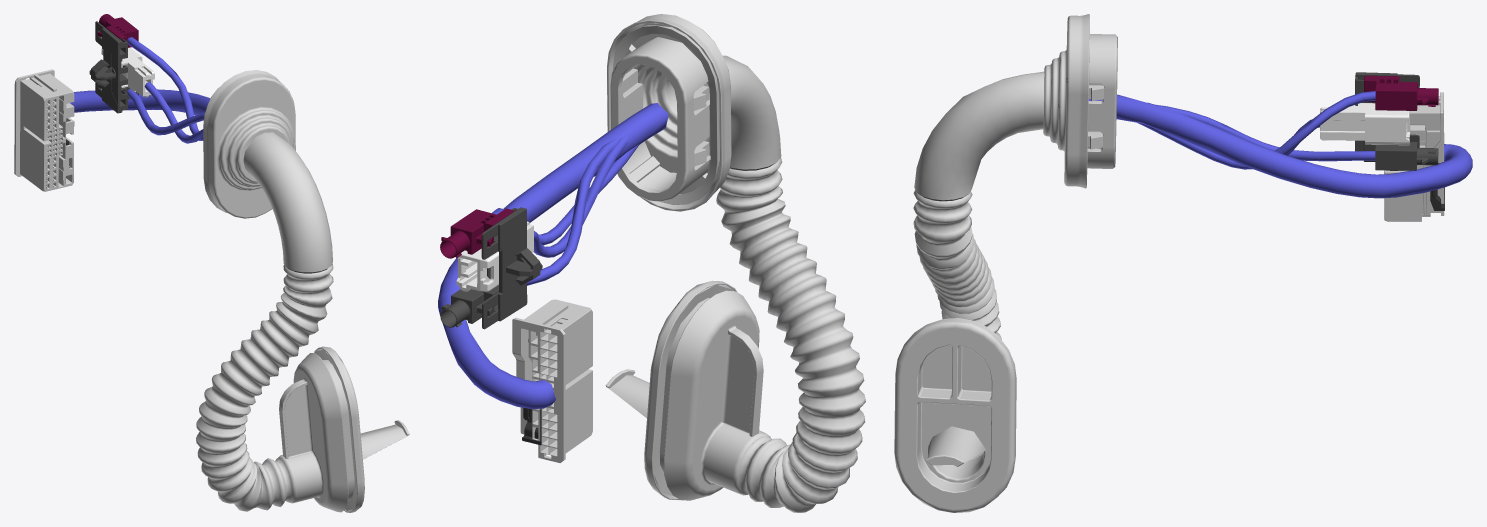
Rendered from DoorHarness.fbx.
3 renders of one model, left to right at view 1: azimuth 30°, elevation 25°; view 2: azimuth 150°, elevation 25°; view 3: azimuth 270°, elevation 25°, orthographic. The views are drawn at different scales.
Parts seen in each view (by area): view 1: lvh_Brep_1_900, lvh_E0100176, lvh_A0071200350_PRT, lvh_Brep_28_5, lvh_E0100074_PRT, lvh_Brep_27_5, lvh_Brep_25_5, lvh_E0100044_PRT__2, lvh_Brep_26_5; view 2: lvh_Brep_1_900, lvh_Brep_2_201, lvh_E0100176, lvh_Brep_28_5, lvh_A0071200350_PRT, lvh_Brep_25_5, lvh_E0100044_PRT__2, lvh_E0100074_PRT, lvh_E0100060_PRT, lvh_Brep_26_5, lvh_Brep_27_5; view 3: lvh_Brep_1_900, lvh_Brep_28_5, lvh_Brep_2_201, lvh_E0100176, lvh_E0100074_PRT, lvh_E0100044_PRT__2, lvh_Brep_27_5, lvh_E0100060_PRT, lvh_Brep_25_5, lvh_A0071200350_PRT.
Boxes of the visible parts, x1,y1,x2,y2 form: lvh_Brep_1_900: (196,70,409,512); lvh_E0100176: (14,69,74,191); lvh_A0071200350_PRT: (89,21,127,113); lvh_Brep_28_5: (70,89,210,115); lvh_E0100074_PRT: (101,47,154,97); lvh_Brep_27_5: (127,37,203,140); lvh_Brep_25_5: (127,89,204,135); lvh_E0100044_PRT__2: (97,14,138,47); lvh_Brep_26_5: (144,82,203,143); lvh_Brep_1_900: (605,14,865,512); lvh_Brep_2_201: (610,33,710,201); lvh_E0100176: (512,299,592,462); lvh_Brep_28_5: (438,103,668,409); lvh_A0071200350_PRT: (481,207,542,329); lvh_Brep_25_5: (527,137,620,285); lvh_E0100044_PRT__2: (440,208,513,258); lvh_E0100074_PRT: (456,221,533,291); lvh_E0100060_PRT: (440,285,498,327); lvh_Brep_26_5: (534,135,628,257); lvh_Brep_27_5: (492,144,638,245); lvh_Brep_1_900: (894,14,1089,512); lvh_Brep_28_5: (1088,94,1472,198); lvh_Brep_2_201: (1087,34,1117,168); lvh_E0100176: (1384,92,1444,221); lvh_E0100074_PRT: (1320,103,1410,145); lvh_E0100044_PRT__2: (1364,75,1438,110); lvh_Brep_27_5: (1137,91,1375,169); lvh_E0100060_PRT: (1363,140,1438,170); lvh_Brep_25_5: (1152,104,1375,161); lvh_A0071200350_PRT: (1355,72,1419,151).
Size of the model in its own units: 1.06 by 2.11 by 2.35.
